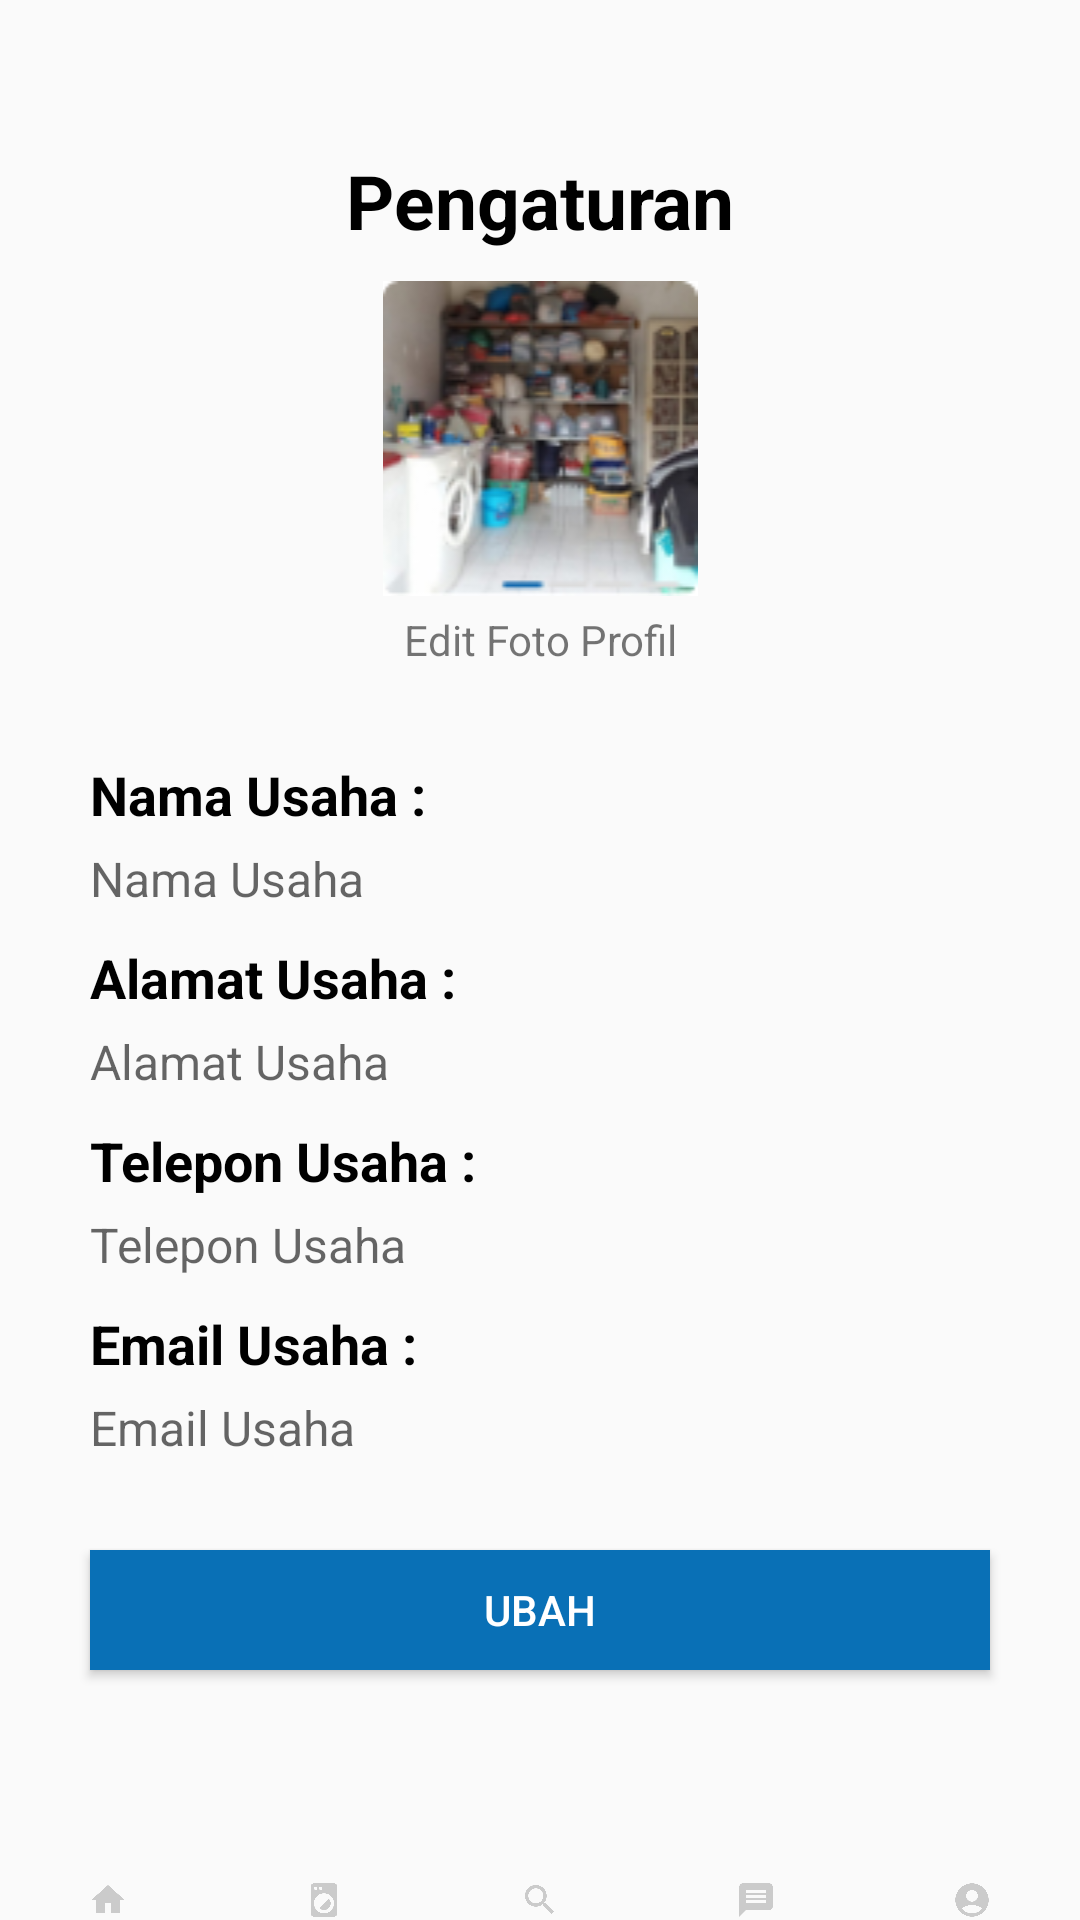

Icon bounding boxes for this 1080×1920 phone screenshot, format (x1, y1, x2, y2):
account circle: (955, 1883, 989, 1917)
home: (92, 1885, 124, 1913)
local laundry service: (311, 1883, 337, 1917)
message: (739, 1883, 773, 1917)
search: (525, 1885, 554, 1914)
